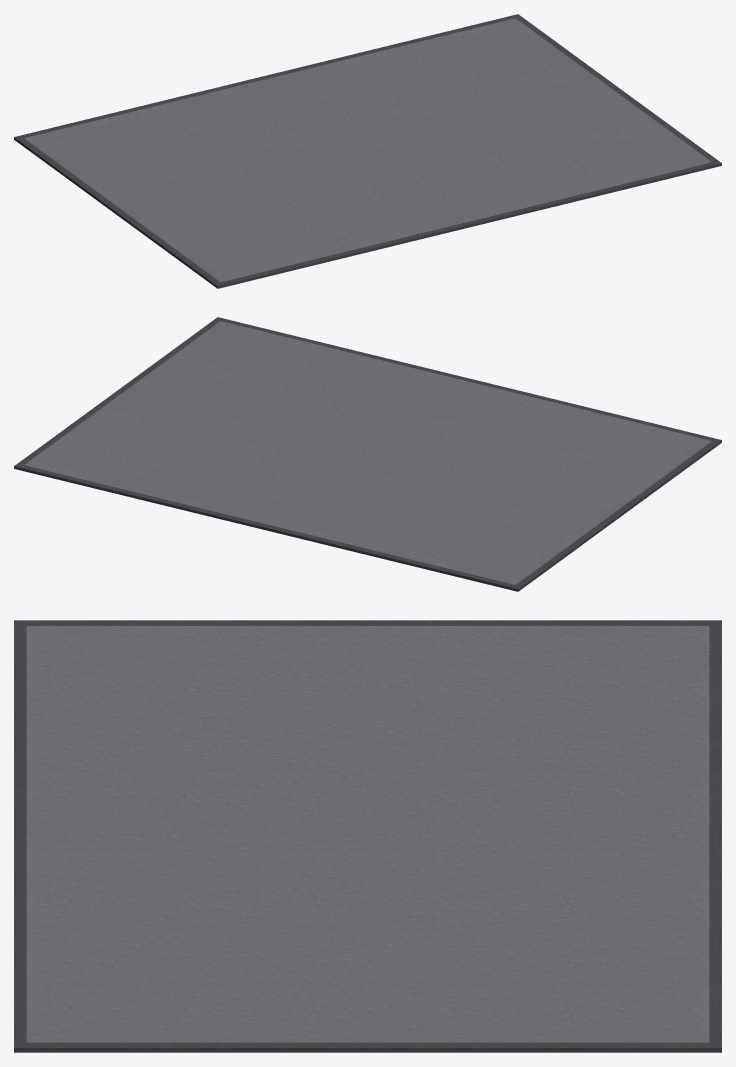
The model's file is alfombra_gris_140x200.glb.
The picture shows the model from 3 angles, top to bottom: view 1: azimuth 30°, elevation 25°; view 2: azimuth 150°, elevation 25°; view 3: azimuth 270°, elevation 25°; orthographic projection. The views are drawn at different scales.
Parts seen in each view (by area): view 1: alfombra_gris_140x200; view 2: alfombra_gris_140x200; view 3: alfombra_gris_140x200.
Boxes of the visible parts, left/top/right/bottom form: alfombra_gris_140x200: left=14, top=14, right=721, bottom=288; alfombra_gris_140x200: left=14, top=317, right=721, bottom=591; alfombra_gris_140x200: left=14, top=620, right=721, bottom=1052.
Size of the model in its own units: 2 by 0.01 by 1.4.
1 material, 1 textured.
